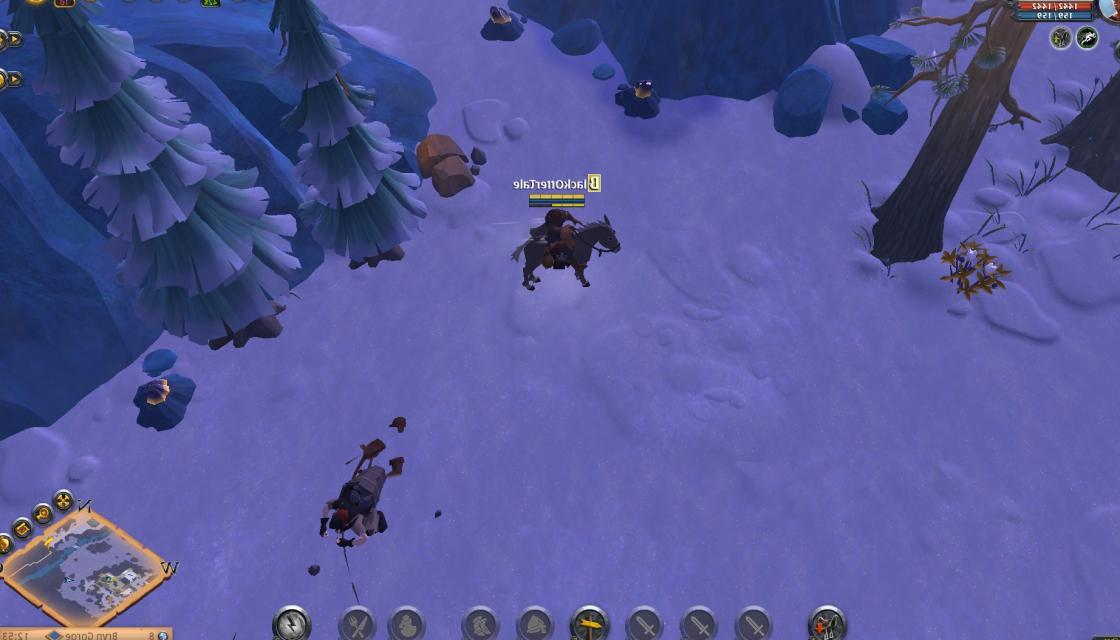copperore: (124, 372, 200, 432), (612, 76, 668, 117), (484, 4, 526, 38)
limestone: (413, 133, 488, 196)
